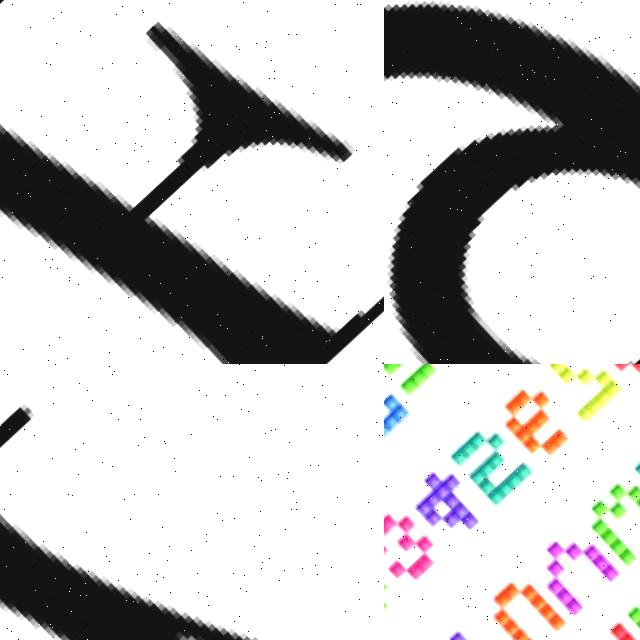2: (384, 544, 411, 631)
3: (384, 501, 455, 588)
4: (408, 460, 502, 549)
5: (450, 417, 541, 503)
6: (493, 374, 588, 464)
7: (537, 364, 629, 421)
9: (384, 0, 640, 364)
E: (0, 14, 384, 364)
Y: (0, 364, 384, 640)
